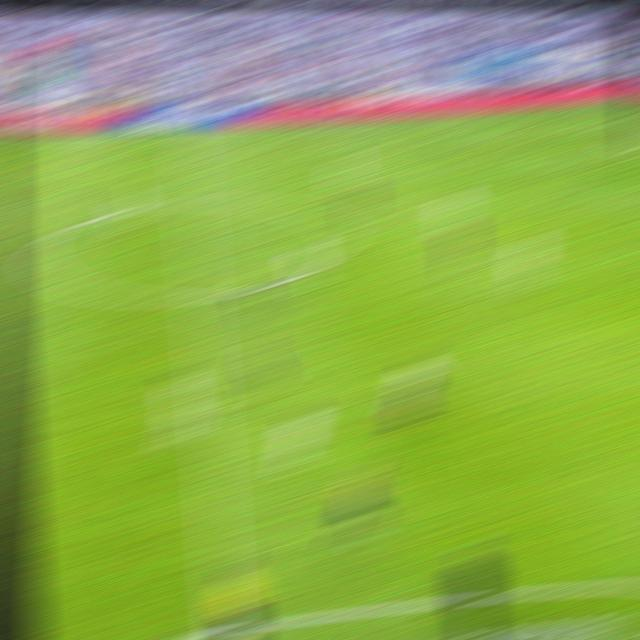halfcircle_bottom: (184, 285, 215, 305)
halfcircle_top: (176, 192, 207, 210)
midline_bottom_intersection: (209, 616, 240, 633)
midline_top_intersection: (175, 129, 199, 137)
